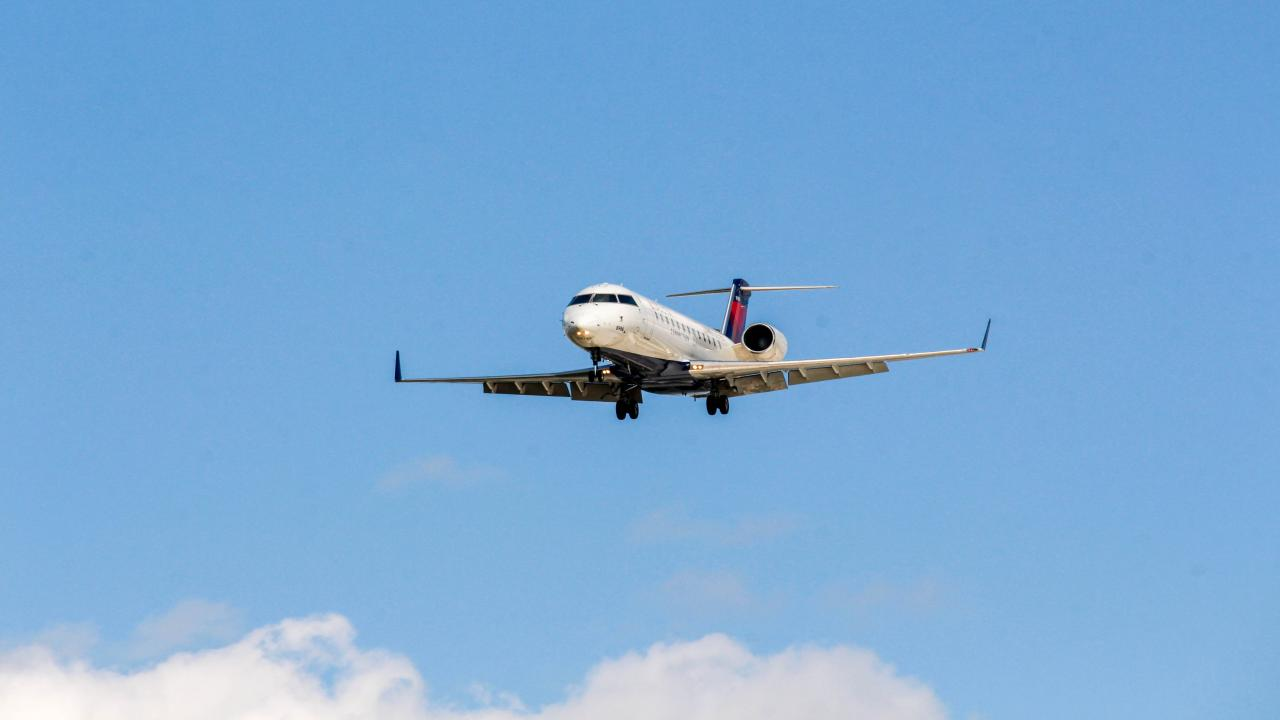Airplane: (378, 256, 1022, 439)
